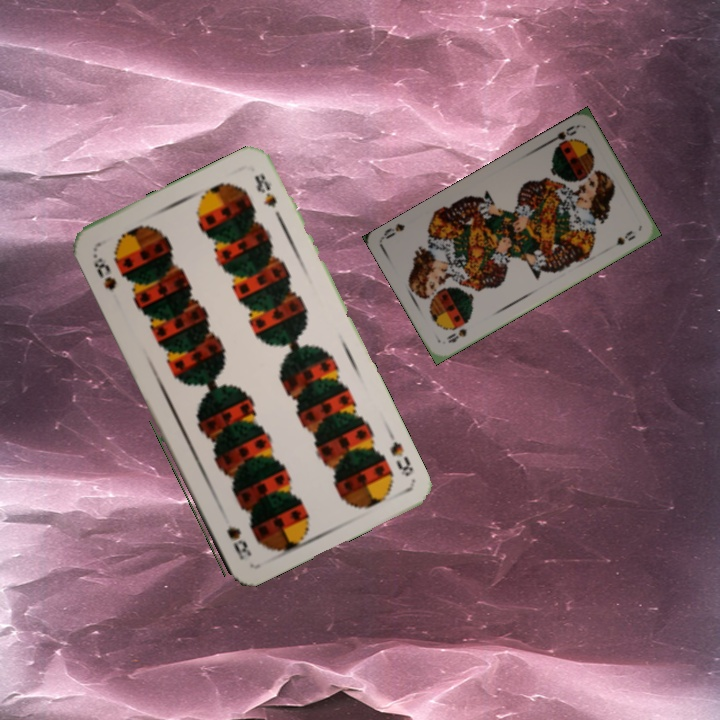S8: (383, 426, 416, 479), (88, 249, 119, 293)
SO: (543, 121, 580, 151), (442, 324, 470, 346)
